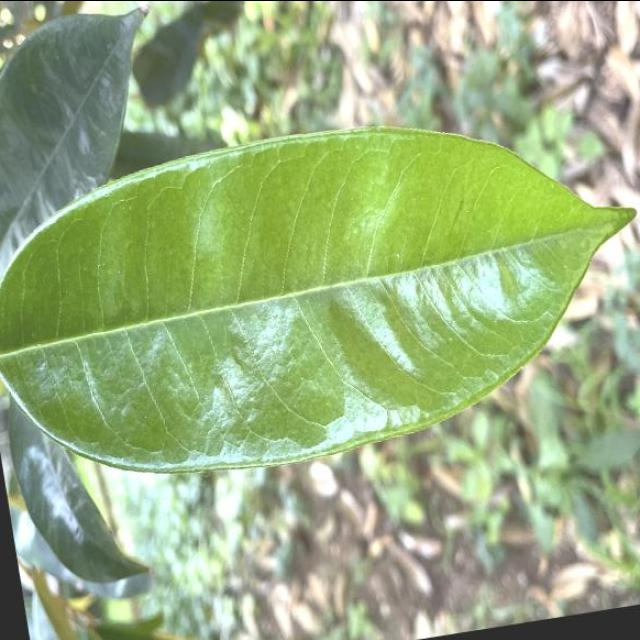No Disease: (0, 66, 640, 519)
